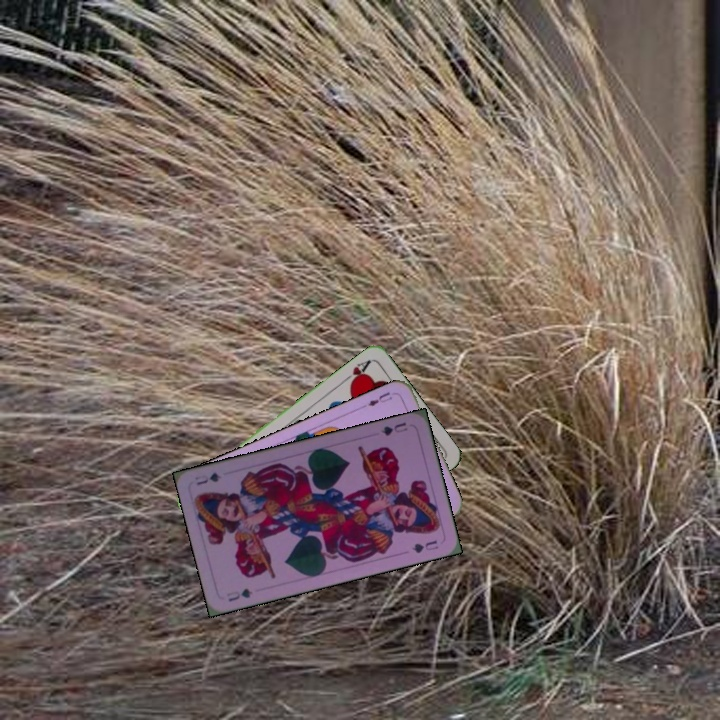EU: (360, 388, 399, 410)
GU: (377, 418, 410, 439), (223, 584, 255, 604)
HA: (338, 356, 374, 388)
